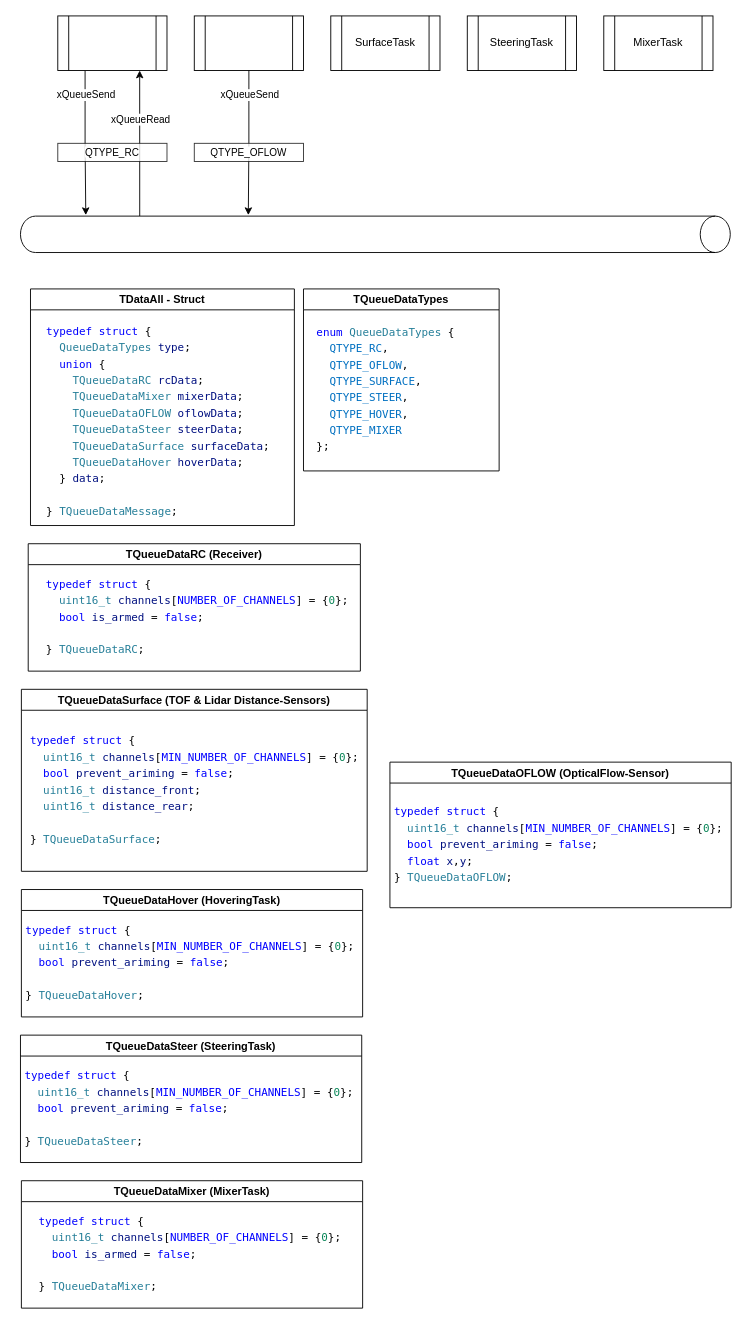
Image size: 747x1324. Some labels were removed from this diagram. Here are the shapes that lost their labels. From the top down, the centre of each, then its label:
At point 112,43: "ReceiverTask".
At point 248,43: "OpticalFlowTask".
